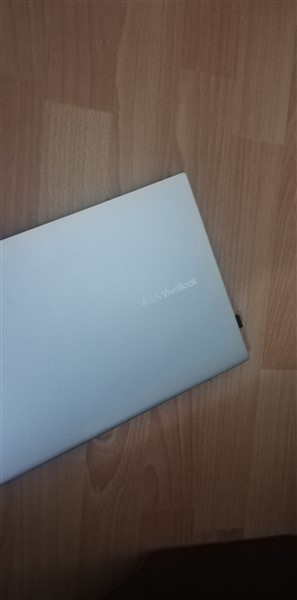laptop: (1, 169, 252, 492)
